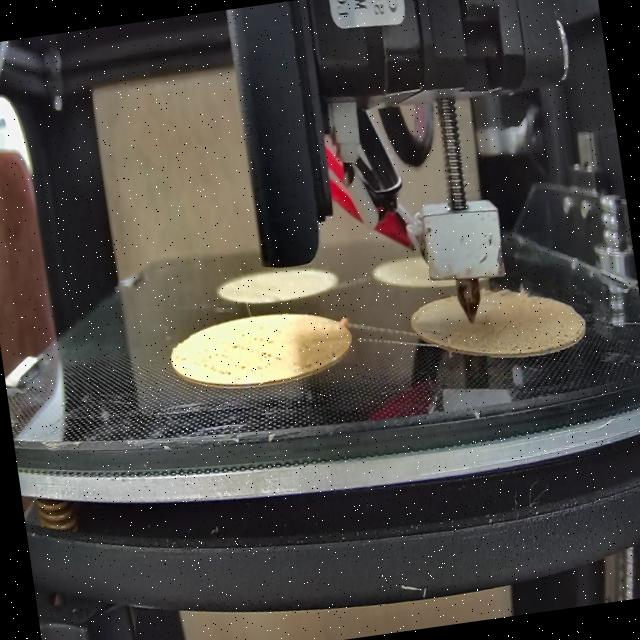under_extrusion: (194, 322, 286, 383), (511, 312, 574, 352), (292, 339, 344, 376), (424, 314, 462, 348)
